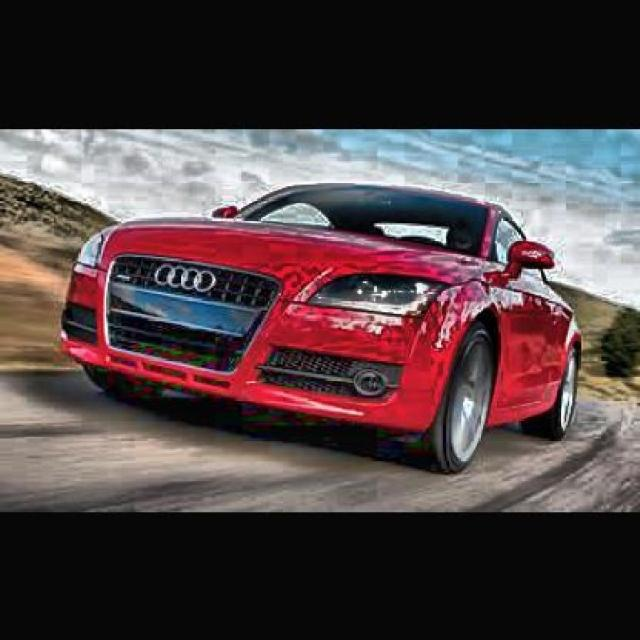red: (67, 152, 568, 462)
